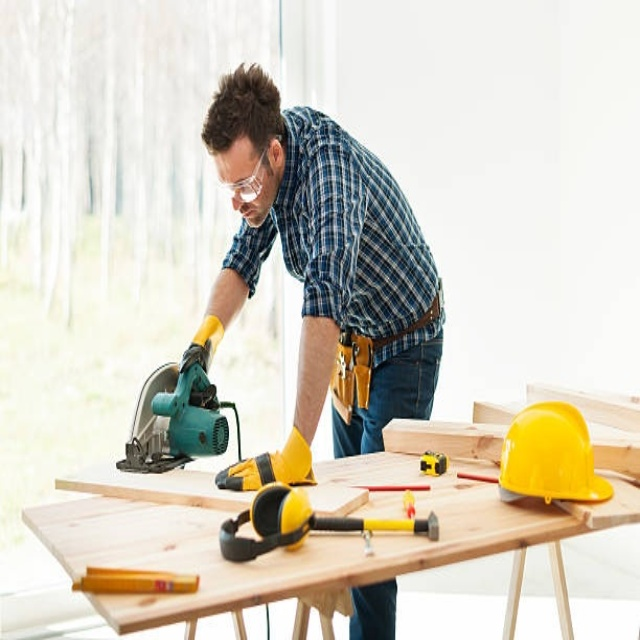Gafas: (217, 142, 271, 202)
Guantes: (218, 424, 318, 491), (170, 314, 225, 394)
Sin_mascara: (234, 201, 264, 231)
